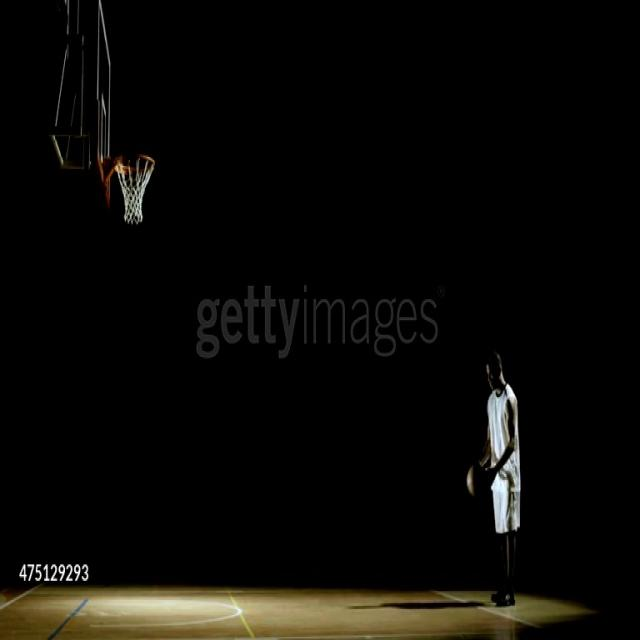ball: (466, 463, 486, 498)
